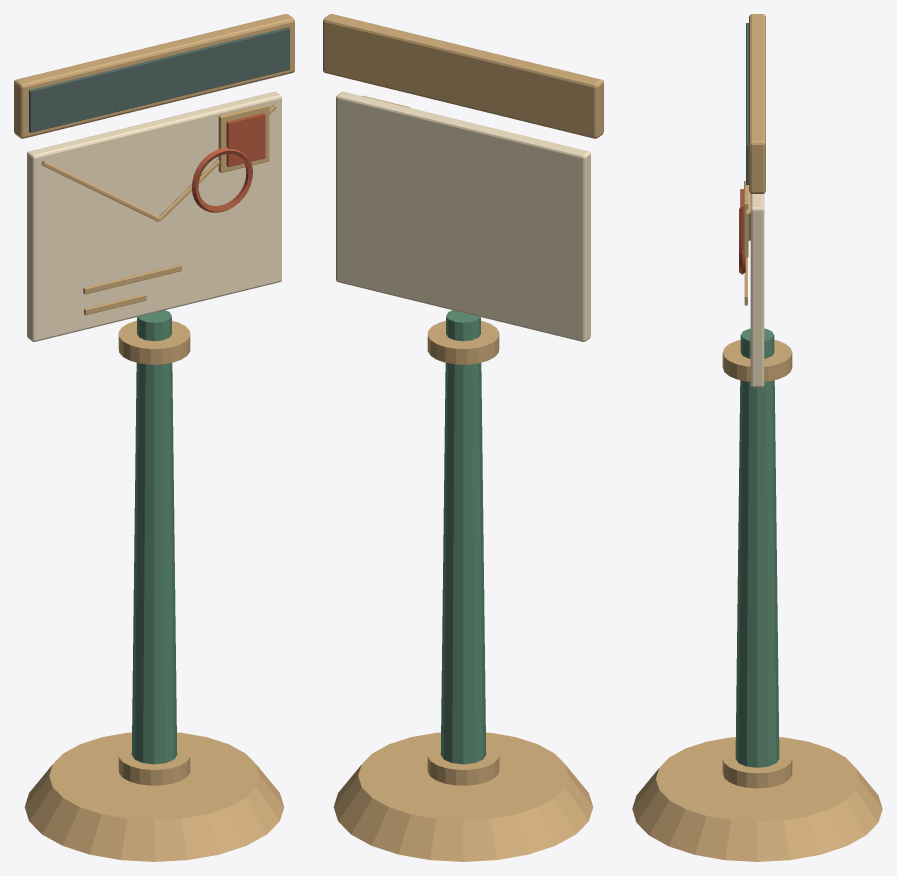
The model's file is common_ban_letter.glb.
The picture shows the model from 3 angles, left to right: view 1: azimuth 30°, elevation 25°; view 2: azimuth 150°, elevation 25°; view 3: azimuth 270°, elevation 25°; orthographic projection. The views are drawn at different scales.
Visible parts, largest first — view 1: common_ban_letter__common-ivory, common_ban_letter__common-brushed-brass, common_ban_letter__common-sage, common_ban_letter__common-dark-timber, common_ban_letter__common-terracotta; view 2: common_ban_letter__common-ivory, common_ban_letter__common-brushed-brass, common_ban_letter__common-sage; view 3: common_ban_letter__common-brushed-brass, common_ban_letter__common-sage, common_ban_letter__common-ivory.
Part boxes in pixels (box(x1,y1,x2,y2)): common_ban_letter__common-ivory: box(27, 91, 281, 341); common_ban_letter__common-brushed-brass: box(14, 14, 294, 861); common_ban_letter__common-sage: box(131, 310, 177, 764); common_ban_letter__common-dark-timber: box(29, 27, 289, 132); common_ban_letter__common-terracotta: box(191, 113, 265, 212); common_ban_letter__common-ivory: box(336, 91, 590, 341); common_ban_letter__common-brushed-brass: box(323, 14, 603, 861); common_ban_letter__common-sage: box(440, 310, 486, 764); common_ban_letter__common-brushed-brass: box(632, 14, 882, 861); common_ban_letter__common-sage: box(735, 328, 779, 767); common_ban_letter__common-ivory: box(750, 193, 764, 387).
Bounding box in the file's own units: 2.2 × 5.8 × 1.8.
